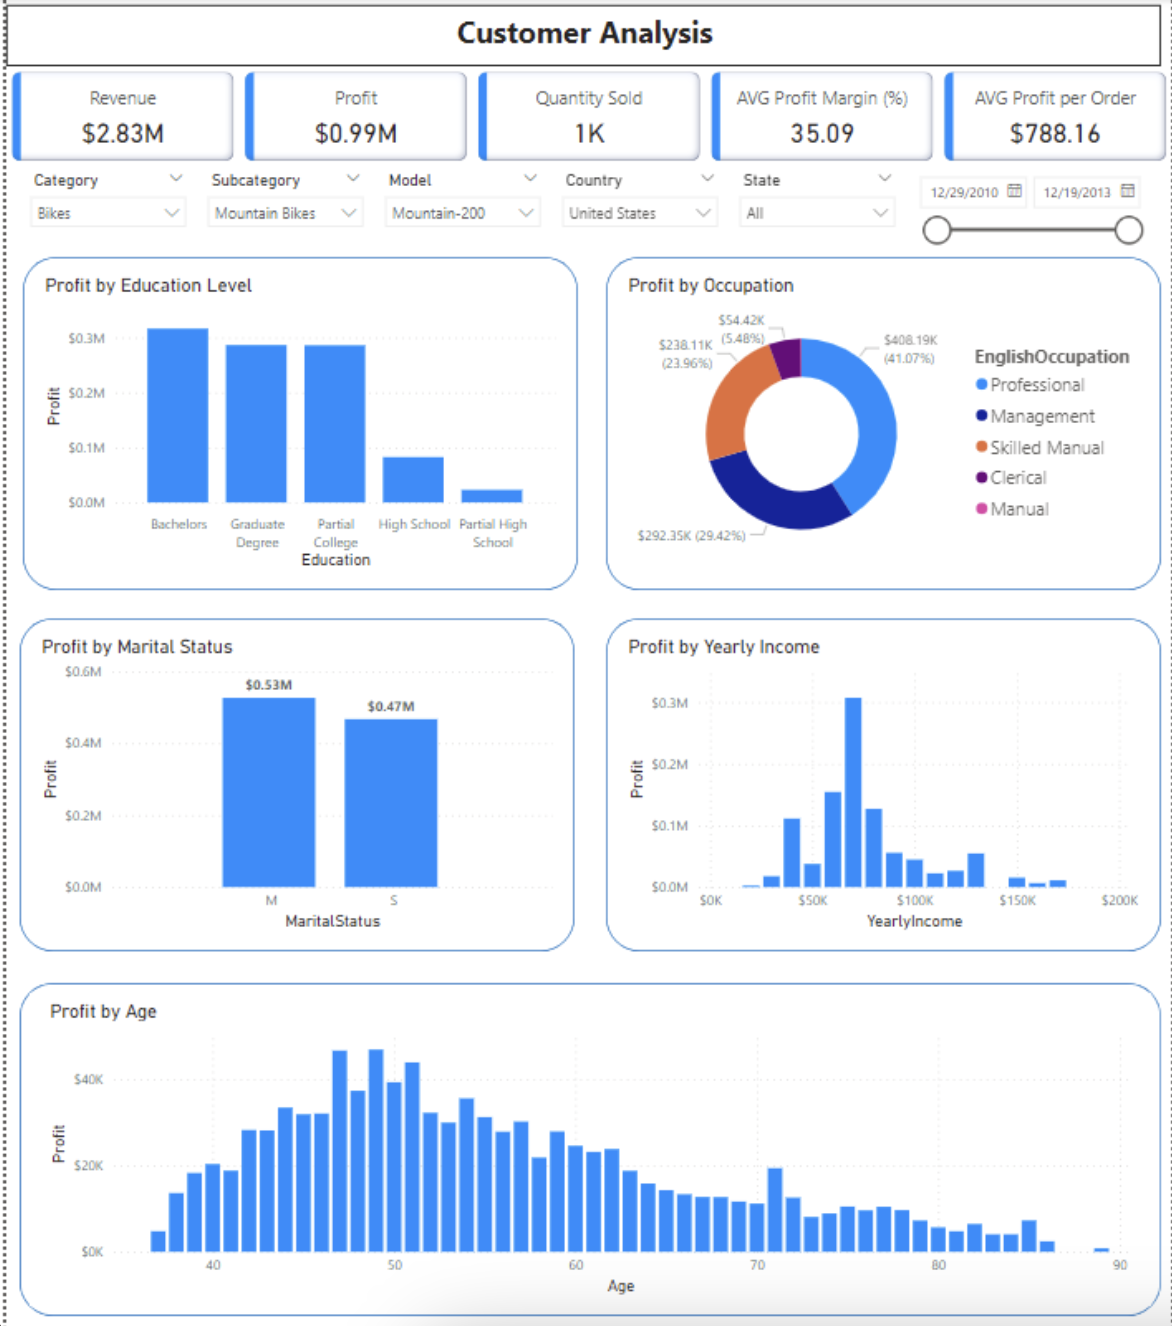

Layout of this report page (visuals, bound fields, positions):
{"tool":"powerbi","page":{"name":"Who's Our Customer?","canvas":[1050,1200],"ordinal":1},"visuals":[{"type":"shape","box":[540.3,232.8,500,300],"z":0},{"type":"slicer","fields":{"Values":["DimProductCategory.EnglishProductCategoryName"]},"box":[11.9,150.7,160,75],"z":1000},{"type":"shape","box":[11.9,886.6,1028.4,300],"z":2000},{"type":"shape","box":[11.9,558.2,500,300],"z":3000},{"type":"shape","box":[540.3,558.2,500,300],"z":4000},{"type":"textbox","box":[0,6,1050.7,55.2],"z":5000},{"type":"cardVisual","fields":{"Data":["Sum(FactInternetSales.UnitPrice)","Sum(FactInternetSales.Profit)","Sum(FactInternetSales.OrderQuantity)","Avg(FactInternetSales.Profit Margin)","Avg(FactInternetSales.Profit)"]},"box":[0,61.2,1050,90],"z":6000},{"type":"shape","box":[14.9,232.8,500,300],"z":7000},{"type":"slicer","fields":{"Values":["FactInternetSales.OrderDate"]},"box":[810.4,150.7,222.4,74.6],"z":8000},{"type":"columnChart","title":"Profit by Education Level","fields":{"Category":["DimCustomer.EnglishEducation"],"Y":["Sum(FactInternetSales.Profit)"]},"box":[29.9,247.8,470.1,270.1],"z":9000},{"type":"donutChart","title":"Profit by Occupation","fields":{"Category":["DimCustomer.EnglishOccupation"],"Y":["Sum(FactInternetSales.Profit)"]},"box":[555.2,247.8,470.1,270.1],"z":10000},{"type":"columnChart","title":"Profit by Marital Status","fields":{"Y":["Sum(FactInternetSales.Profit)"],"Category":["DimCustomer.MaritalStatus"]},"box":[26.9,573.1,470.1,270.1],"z":11000},{"type":"columnChart","title":"Profit by Yearly Income","fields":{"Category":["DimCustomer.YearlyIncome"],"Y":["Sum(FactInternetSales.Profit)"]},"box":[555.2,573.1,470.1,270.1],"z":12000},{"type":"columnChart","fields":{"Y":["Sum(FactInternetSales.Profit)"],"Category":["DimCustomer.Age"]},"box":[34.3,901.5,980.6,270.1],"z":13000},{"type":"slicer","fields":{"Values":["DimProductSubcategory.EnglishProductSubcategoryName"]},"box":[171.6,150.7,159.7,74.6],"z":14000},{"type":"slicer","fields":{"Values":["DimProduct.ModelName"]},"box":[331.3,150.7,159.7,74.6],"z":15000},{"type":"slicer","fields":{"Values":["DimGeography.EnglishCountryRegionName"]},"box":[491,150.7,159.7,74.6],"z":16000},{"type":"slicer","fields":{"Values":["DimGeography.StateProvinceName"]},"box":[650.7,150.7,159.7,74.6],"z":17000}]}

Visuals, with their boxes in screenshot pixels (x1, y1, x2, y2), scaled from the page's 1050x1200 canvas onto the 1172x1326 screenshot:
shape: box(603, 257, 1161, 589)
slicer - DimProductCategory.EnglishProductCategoryName: box(13, 167, 192, 249)
shape: box(13, 980, 1161, 1311)
shape: box(13, 617, 571, 948)
shape: box(603, 617, 1161, 948)
textbox: box(0, 7, 1171, 68)
cardVisual - Sum(FactInternetSales.UnitPrice) x Sum(FactInternetSales.Profit): box(0, 68, 1171, 167)
shape: box(17, 257, 575, 589)
slicer - FactInternetSales.OrderDate: box(905, 167, 1153, 249)
"Profit by Education Level" columnChart: box(33, 274, 558, 572)
"Profit by Occupation" donutChart: box(620, 274, 1144, 572)
"Profit by Marital Status" columnChart: box(30, 633, 555, 932)
"Profit by Yearly Income" columnChart: box(620, 633, 1144, 932)
columnChart - Sum(FactInternetSales.Profit) x DimCustomer.Age: box(38, 996, 1133, 1295)
slicer - DimProductSubcategory.EnglishProductSubcategoryName: box(192, 167, 370, 249)
slicer - DimProduct.ModelName: box(370, 167, 548, 249)
slicer - DimGeography.EnglishCountryRegionName: box(548, 167, 726, 249)
slicer - DimGeography.StateProvinceName: box(726, 167, 905, 249)
